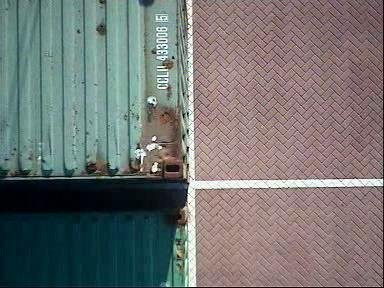groundmarker_2: (80, 61, 168, 119)
